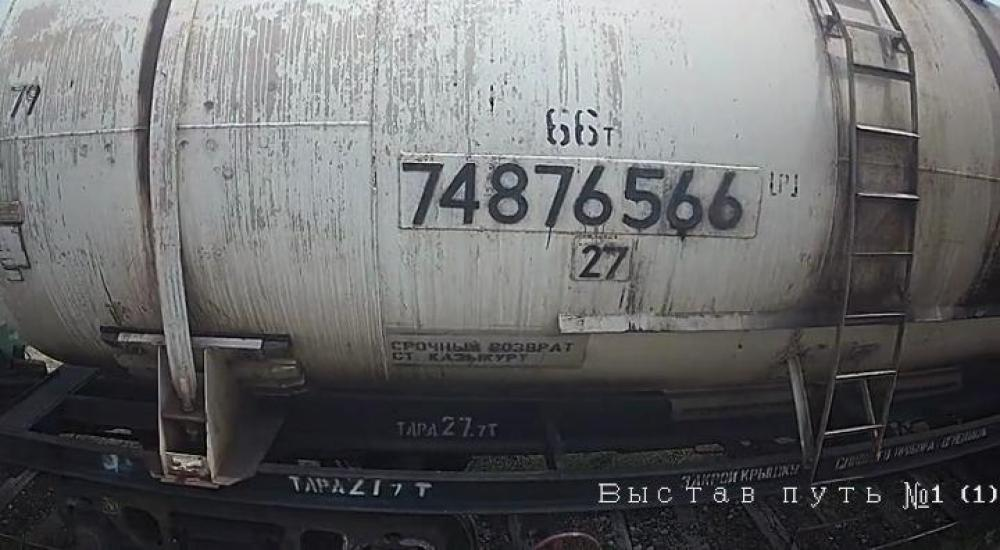Wagon-number: (398, 155, 748, 236)
